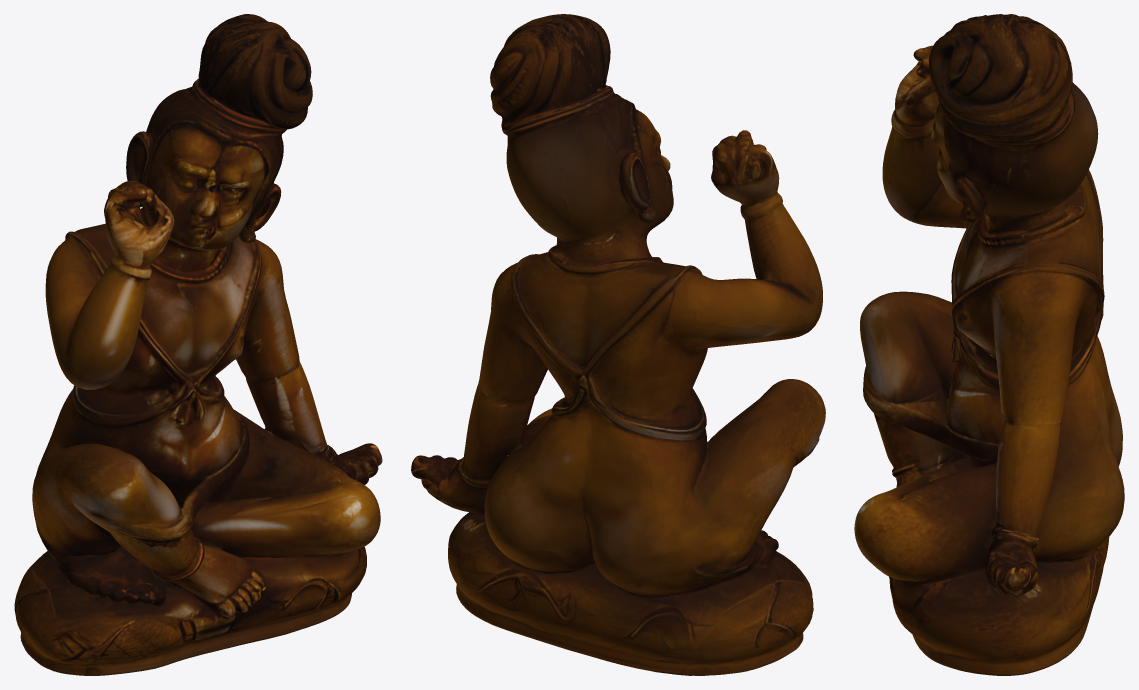
3 views of the same model, side by side, from view 1: azimuth 30°, elevation 25°; view 2: azimuth 150°, elevation 25°; view 3: azimuth 270°, elevation 25° (orthographic). The views are drawn at different scales.
Visible parts, largest first — view 1: textured_mesh; view 2: textured_mesh; view 3: textured_mesh.
Part boxes in pixels (x1,y1,x2,y2): textured_mesh: (14, 14, 382, 675); textured_mesh: (411, 14, 825, 675); textured_mesh: (854, 14, 1124, 675).
Size of the model in its own units: 1.33 by 1.99 by 0.7965.
1 material, 1 textured.
